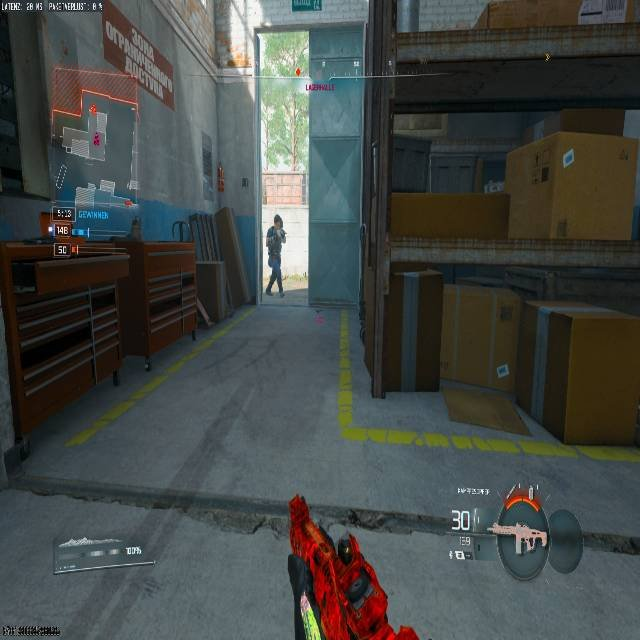head: (273, 214, 282, 227)
player: (265, 215, 286, 297)
